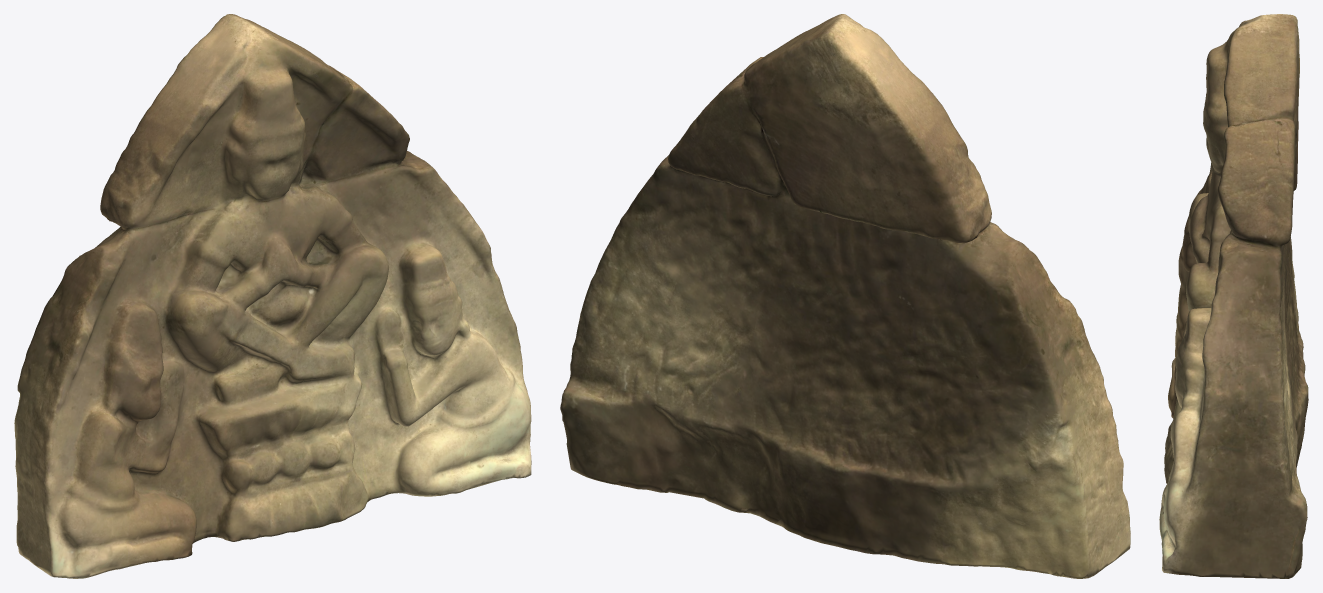
Rendered from MysonMuseum_warehousephudieu2_final.glb.
3 renders of one model, left to right at view 1: azimuth 30°, elevation 25°; view 2: azimuth 150°, elevation 25°; view 3: azimuth 270°, elevation 25°, orthographic. The views are drawn at different scales.
Size of the model in its own units: 0.7033 by 0.679 by 0.1992.
Materials: 1 (1 with a texture image).
